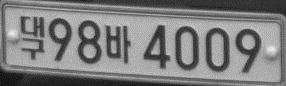0: (204, 26, 230, 72), (174, 24, 199, 70)
4: (143, 25, 171, 69)
8: (76, 20, 102, 64)
9: (235, 27, 262, 72), (48, 17, 73, 62)
대구_V: (20, 15, 45, 60)
자: (105, 25, 131, 64)
